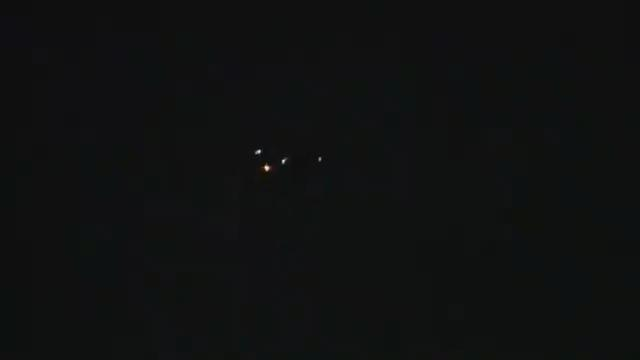Plane: (243, 129, 333, 180)
